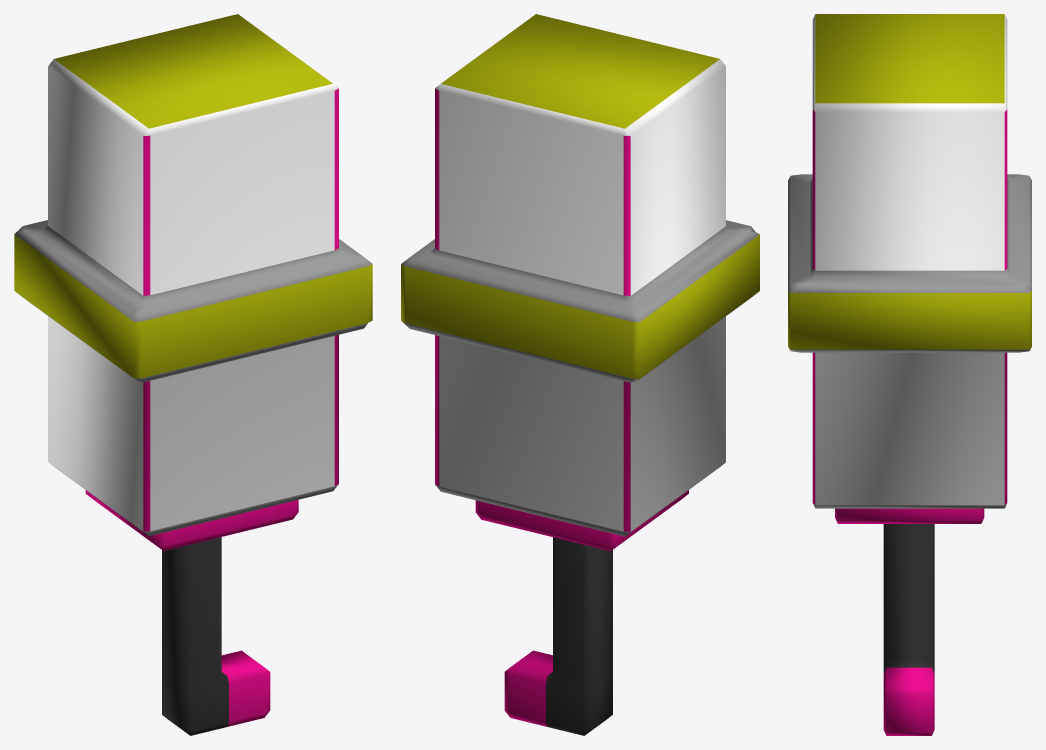
File: BOTTOL.FBX
3 views of the same model, side by side, from view 1: azimuth 30°, elevation 25°; view 2: azimuth 150°, elevation 25°; view 3: azimuth 270°, elevation 25° (orthographic).
Parts seen in each view (by area): view 1: Box003; view 2: Box003; view 3: Box003.
Part boxes in pixels (box(x1,y1,x2,y2)): Box003: box(14, 14, 372, 735); Box003: box(401, 14, 759, 735); Box003: box(788, 14, 1031, 735).
Bounding box in the file's own units: 24.65 × 64.44 × 21.97.
